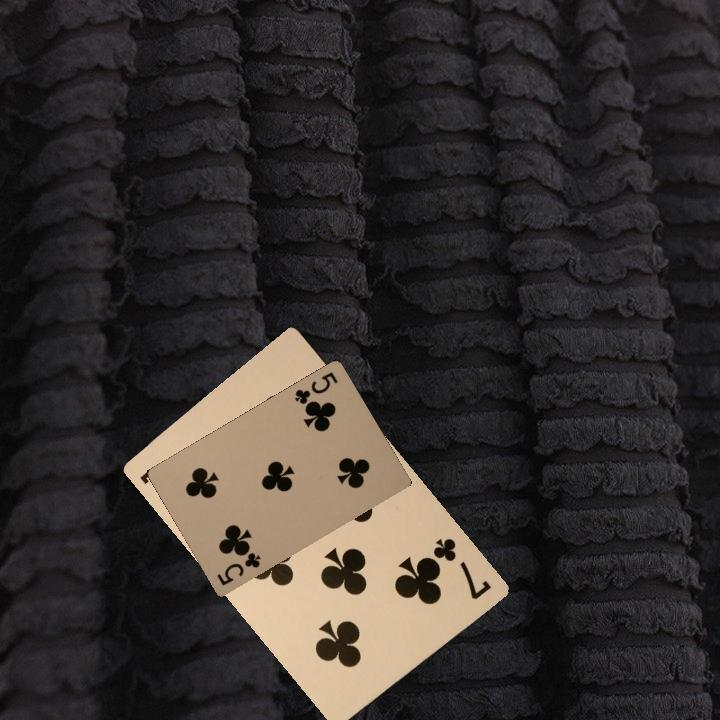5c: (290, 368, 340, 410), (213, 546, 263, 588)
7c: (428, 534, 494, 603)
